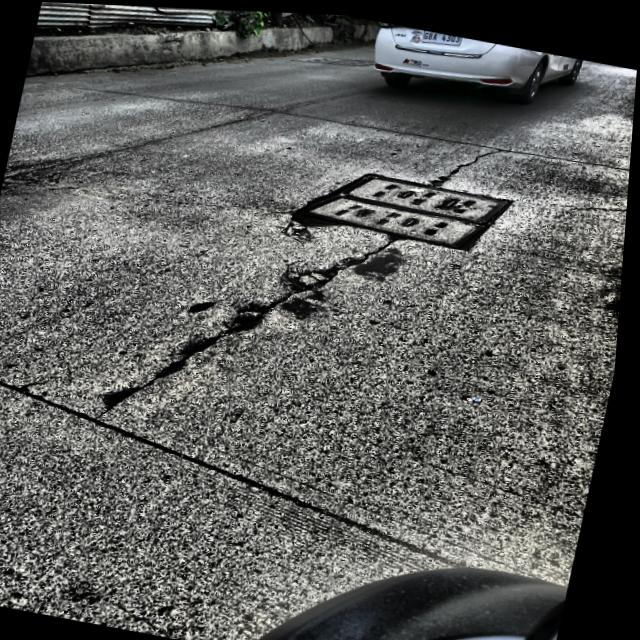cracks: (190, 242, 404, 358), (98, 357, 188, 423)
